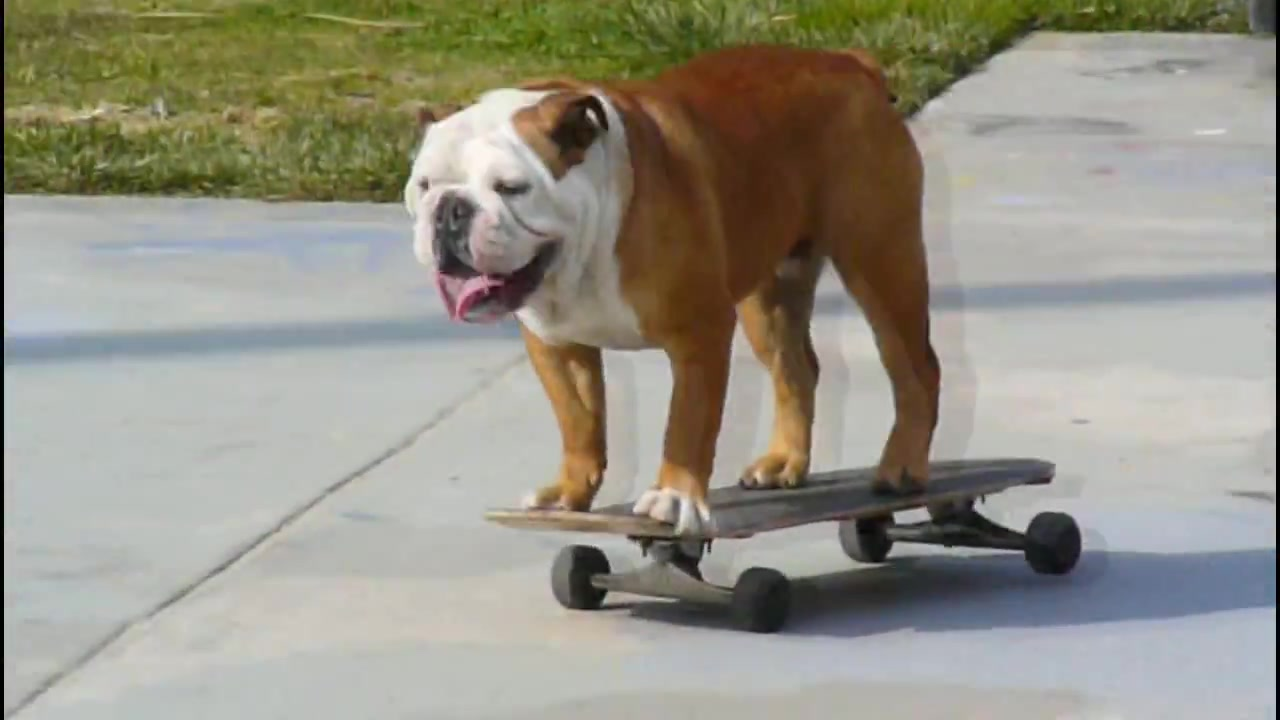dog: (404, 43, 945, 544)
